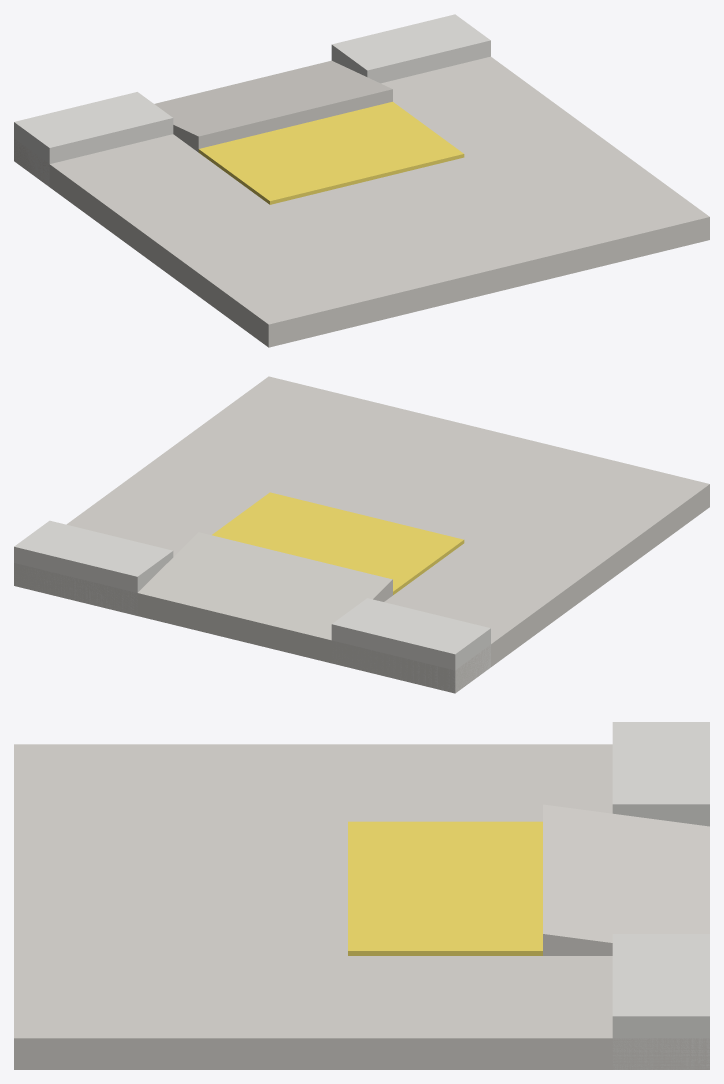
Rendered from curb_ramp.glb.
3 views of the same model, one above another, from view 1: azimuth 30°, elevation 25°; view 2: azimuth 150°, elevation 25°; view 3: azimuth 270°, elevation 25° (orthographic). The views are drawn at different scales.
Visible parts, largest first — view 1: curb_ramp; view 2: curb_ramp; view 3: curb_ramp.
Boxes of the visible parts, x1,y1,x2,y2 form: curb_ramp: (14,14,709,347); curb_ramp: (14,376,709,693); curb_ramp: (14,722,709,1069).
Bounding box in the file's own units: 1 × 0.085 × 1.
